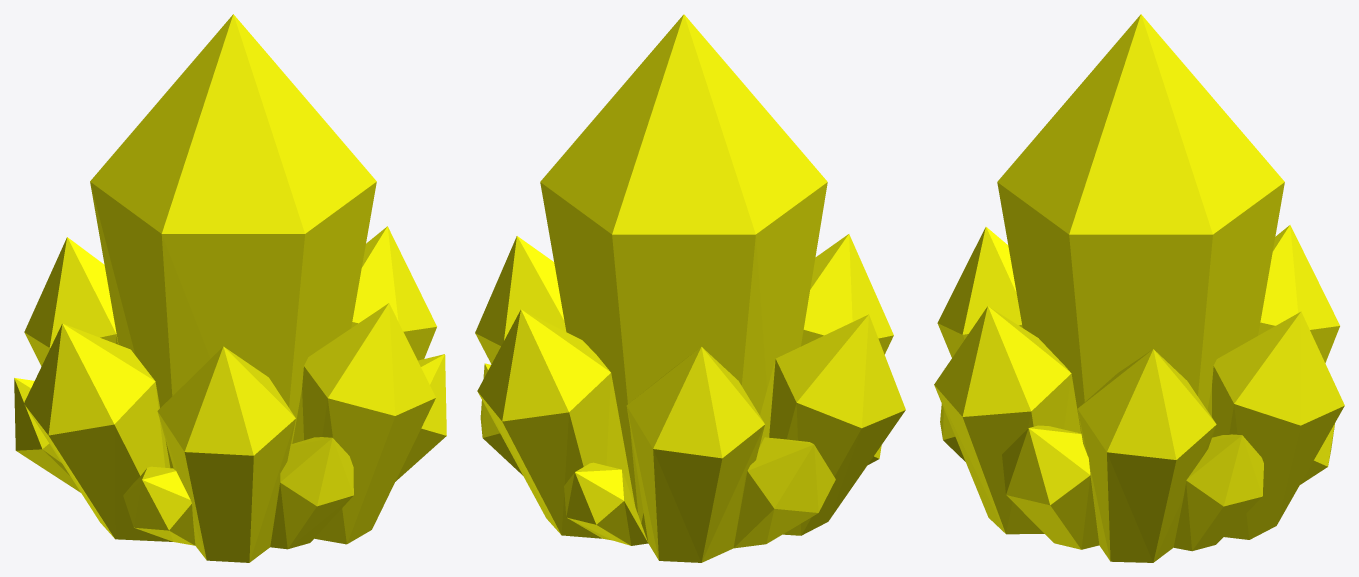
The model's file is crystal_yellow.obj.
The picture shows the model from 3 angles, left to right: view 1: azimuth 30°, elevation 25°; view 2: azimuth 150°, elevation 25°; view 3: azimuth 270°, elevation 25°; orthographic projection.
Visible parts, largest first — view 1: Crystal_Cube; view 2: Crystal_Cube; view 3: Crystal_Cube.
Boxes of the visible parts, x1,y1,x2,y2 form: Crystal_Cube: (14,14,446,562); Crystal_Cube: (475,14,905,562); Crystal_Cube: (934,14,1344,562).
Size of the model in its own units: 0.8345 by 0.9795 by 0.7515.
